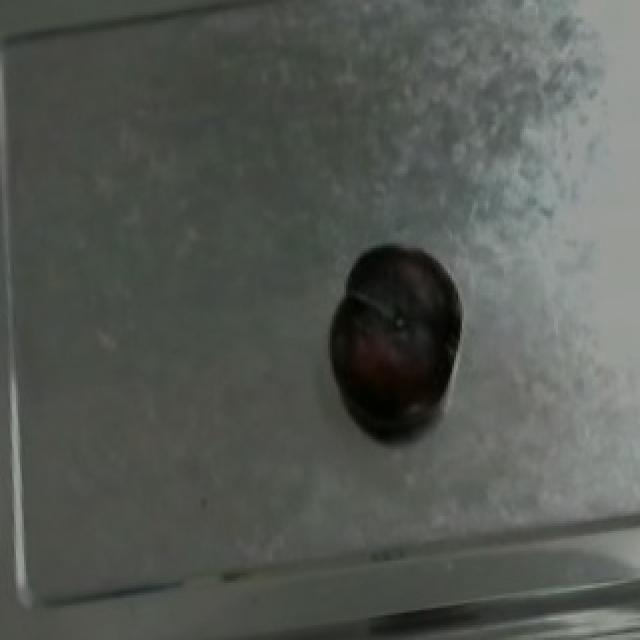Fruit: (320, 228, 468, 437)
